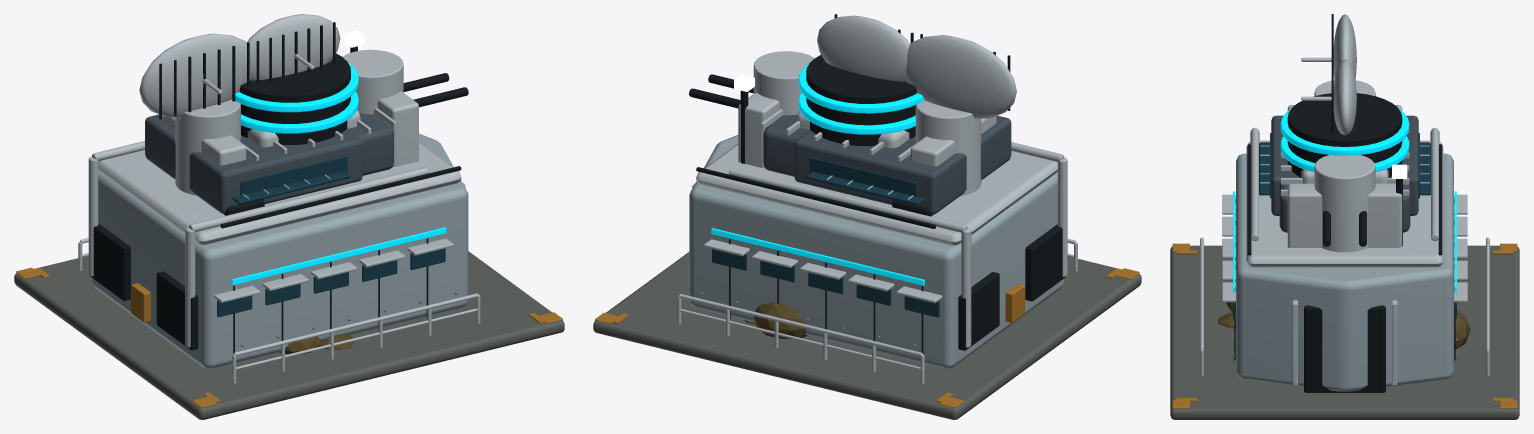
Rendered from starport-library.glb.
The picture shows the model from 3 angles, left to right: view 1: azimuth 30°, elevation 25°; view 2: azimuth 150°, elevation 25°; view 3: azimuth 270°, elevation 25°; orthographic projection. The views are drawn at different scales.
Visible parts, largest first — view 1: 斜面复合建筑011, 基础平台011_1, 穹顶装甲011, 生活保障舱, 相控阵雷达_2, 密封反应堆, 相控阵雷达002_2, 矿物处理罐, 矿物处理罐002, 设备散热廊022, 设备散热廊023, 散热塔001 (+20 smaller); view 2: 斜面复合建筑011, 基础平台011_1, 穹顶装甲011, 生活保障舱, 相控阵雷达_2, 密封反应堆, 相控阵雷达002_2, 矿物处理罐, 矿物处理罐002, 设备散热廊022, 设备散热廊023, 屋面管线023 (+21 smaller); view 3: 基础平台011_1, 斜面复合建筑011, 穹顶装甲011, 密封反应堆, 散热塔001, 矿物处理罐002, 气闸入口011, 生活保障舱, 反应堆冷却环003, 相控阵雷达002_2, 相控阵雷达_2, 屋面管线022 (+14 smaller).
Part boxes in pixels (x1,y1,x2,y2): 斜面复合建筑011: (92,133,468,368); 基础平台011_1: (14,251,564,419); 穹顶装甲011: (98,142,461,244); 生活保障舱: (145,114,362,213); 相控阵雷达_2: (139,33,251,118); 密封反应堆: (239,53,350,145); 相控阵雷达002_2: (247,14,340,80); 矿物处理罐: (175,99,240,195); 矿物处理罐002: (343,49,403,114); 设备散热廊022: (156,271,198,350); 设备散热廊023: (90,223,130,300); 散热塔001: (377,91,418,166); 斜面复合建筑011: (689,135,1064,368); 基础平台011_1: (593,252,1141,419); 穹顶装甲011: (696,143,1057,245); 生活保障舱: (794,115,1011,214); 相控阵雷达_2: (905,35,1016,119); 密封反应堆: (806,55,917,146); 相控阵雷达002_2: (817,15,909,81); 矿物处理罐: (915,100,981,196); 矿物处理罐002: (753,51,814,115); 设备散热廊022: (1025,224,1066,301); 设备散热廊023: (958,272,999,350); 屋面管线023: (729,168,967,232); 基础平台011_1: (1170,245,1519,419); 斜面复合建筑011: (1236,153,1453,391); 穹顶装甲011: (1246,140,1443,267); 密封反应堆: (1287,93,1402,177); 散热塔001: (1287,183,1402,247); 矿物处理罐002: (1314,155,1375,252); 气闸入口011: (1304,305,1385,392); 生活保障舱: (1271,115,1418,215); 反应堆冷却环003: (1280,108,1409,155); 相控阵雷达002_2: (1333,59,1356,135); 相控阵雷达_2: (1333,14,1356,79); 屋面管线022: (1251,128,1258,240).
Size of the model in its own units: 7.2 by 5.95 by 6.4.
